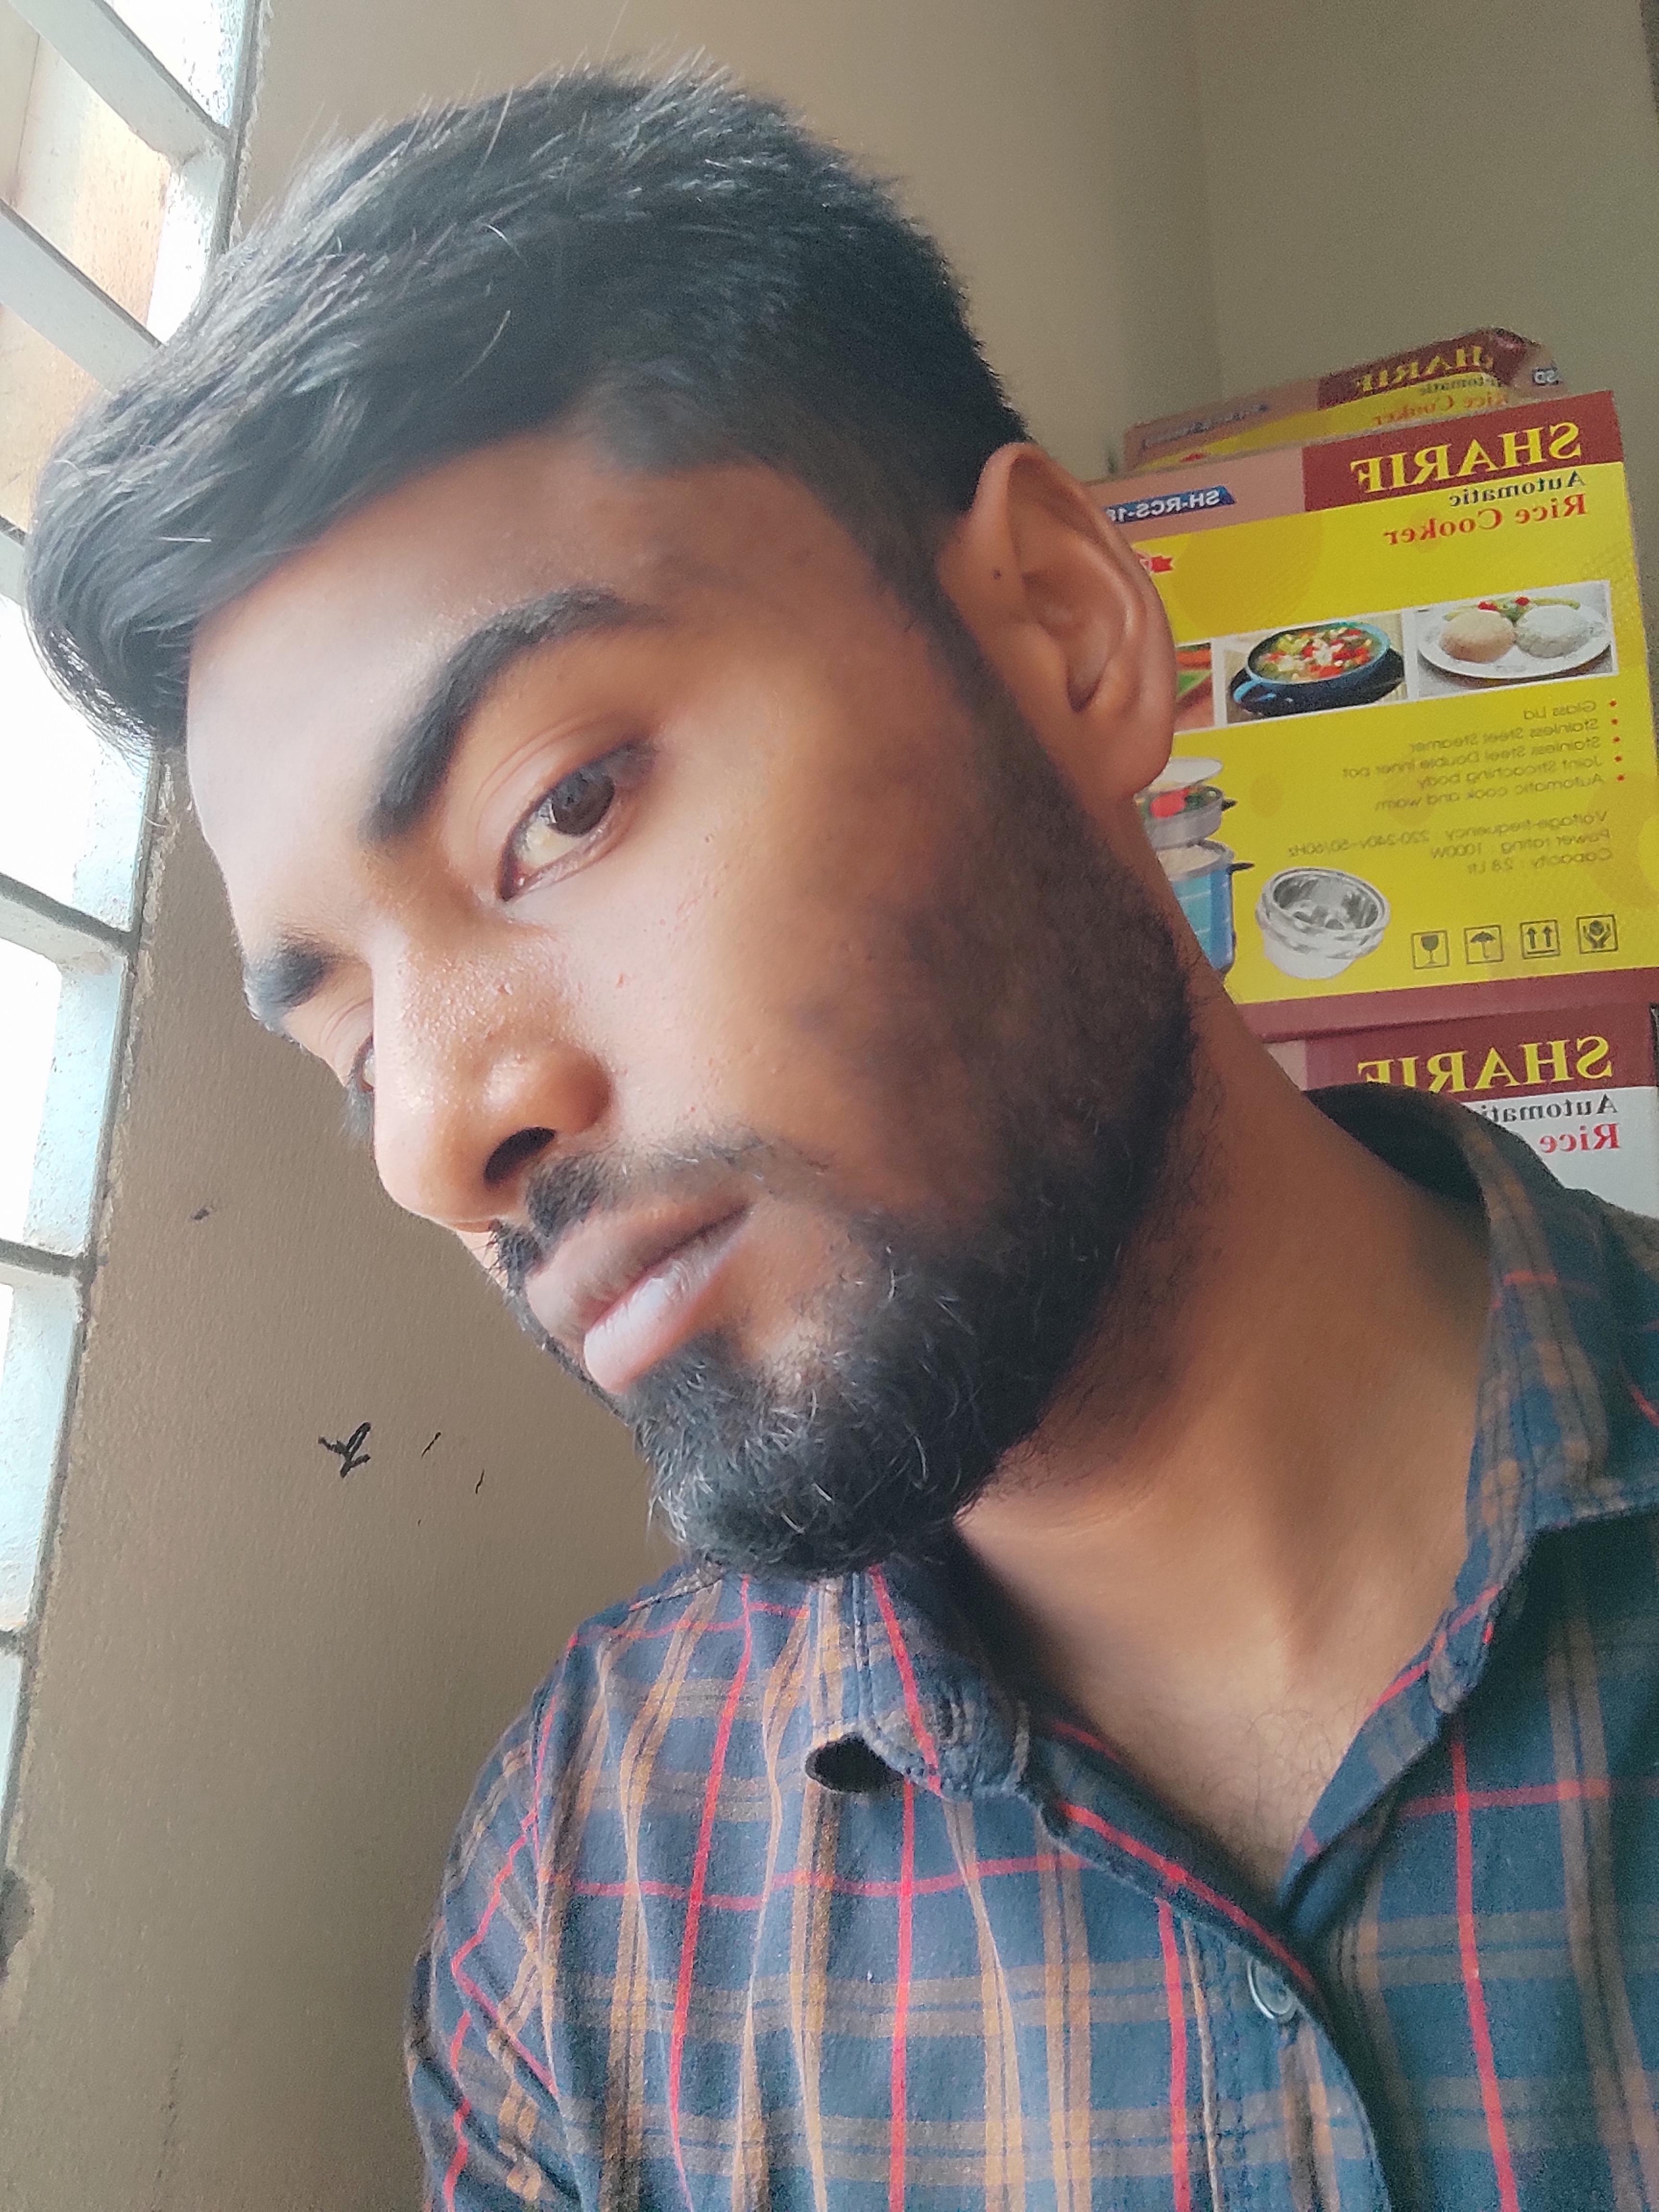Acne: (411, 961, 537, 1064), (725, 1035, 796, 1083)
